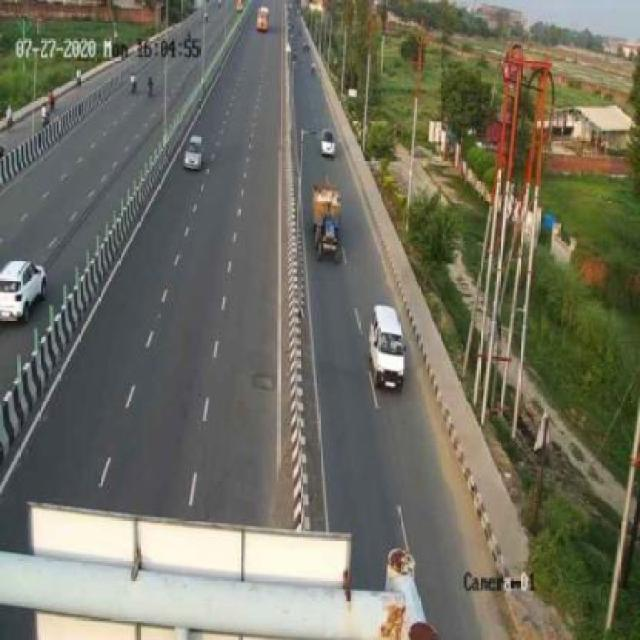car: (364, 296, 410, 396), (3, 259, 49, 326), (182, 131, 212, 171), (315, 125, 340, 157)
